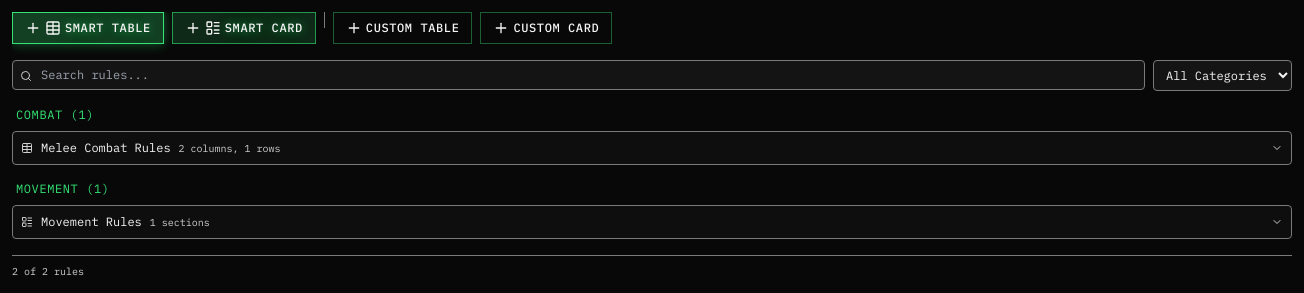
Test: RulesManager › filters rules by search term
Type "Combat" into the field with placeholder "Search rules..." at (578, 75), box [12, 60, 1145, 90]
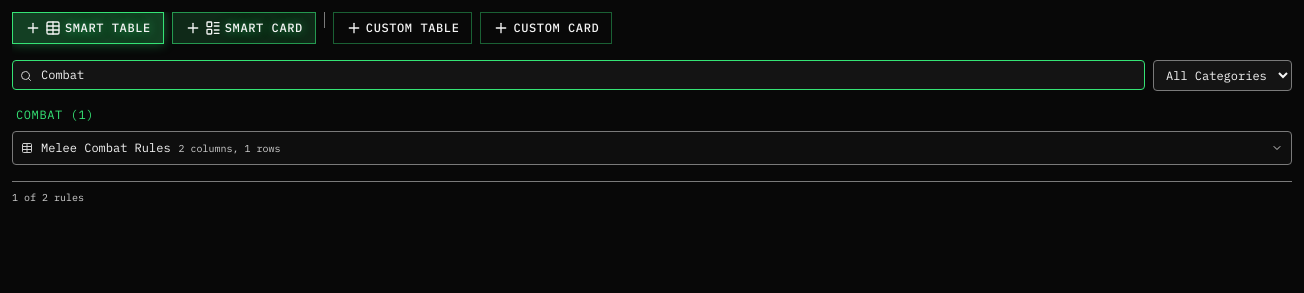
expect the text "Melee Combat Rules" is shown: met, box [41, 140, 171, 156]
expect the button "Movement Rules" is gone: met
